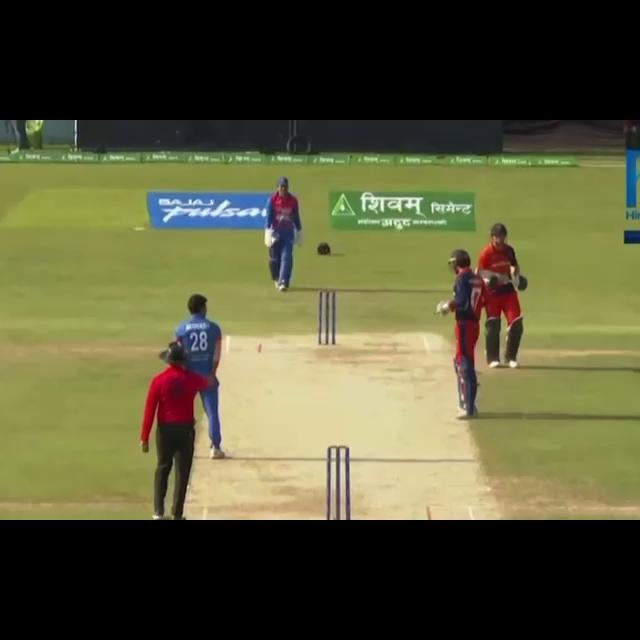umpire: (134, 342, 217, 519)
